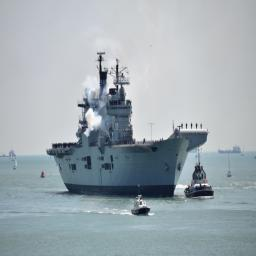Portanaves: (47, 50, 211, 201)
